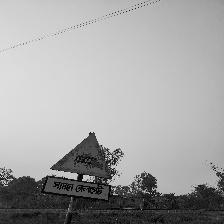Rail-crossing: (42, 132, 112, 201)
